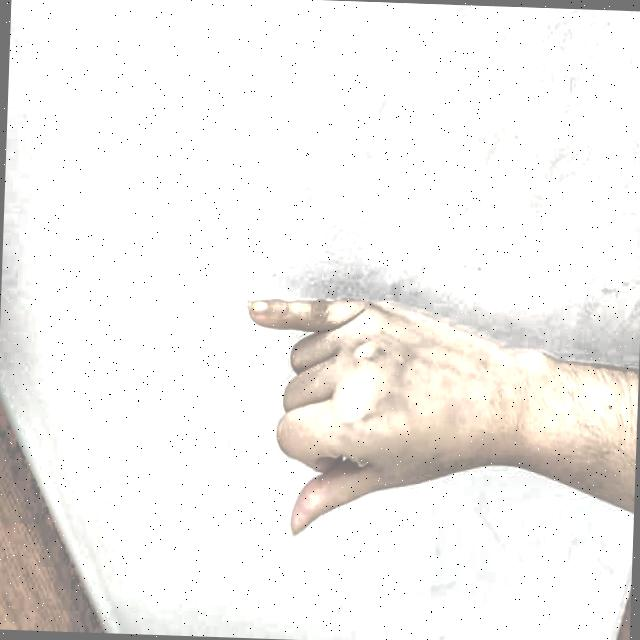Oi: (220, 241, 526, 576)
